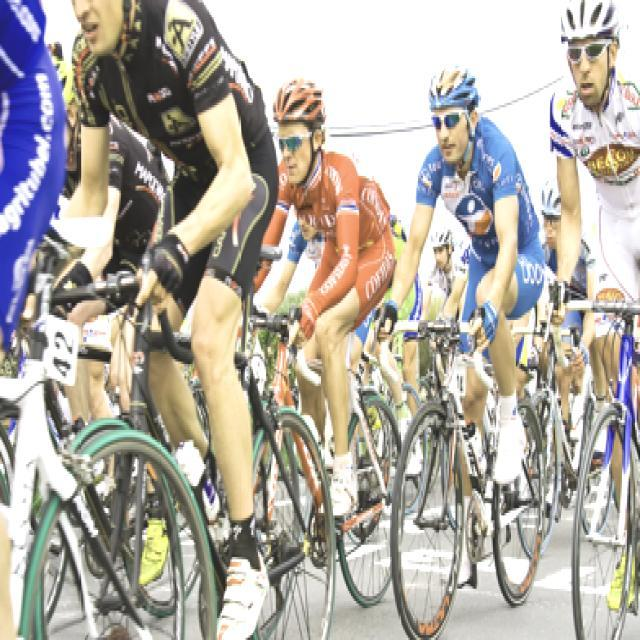Helmet: (556, 0, 626, 105), (270, 75, 326, 184), (423, 61, 478, 164)
